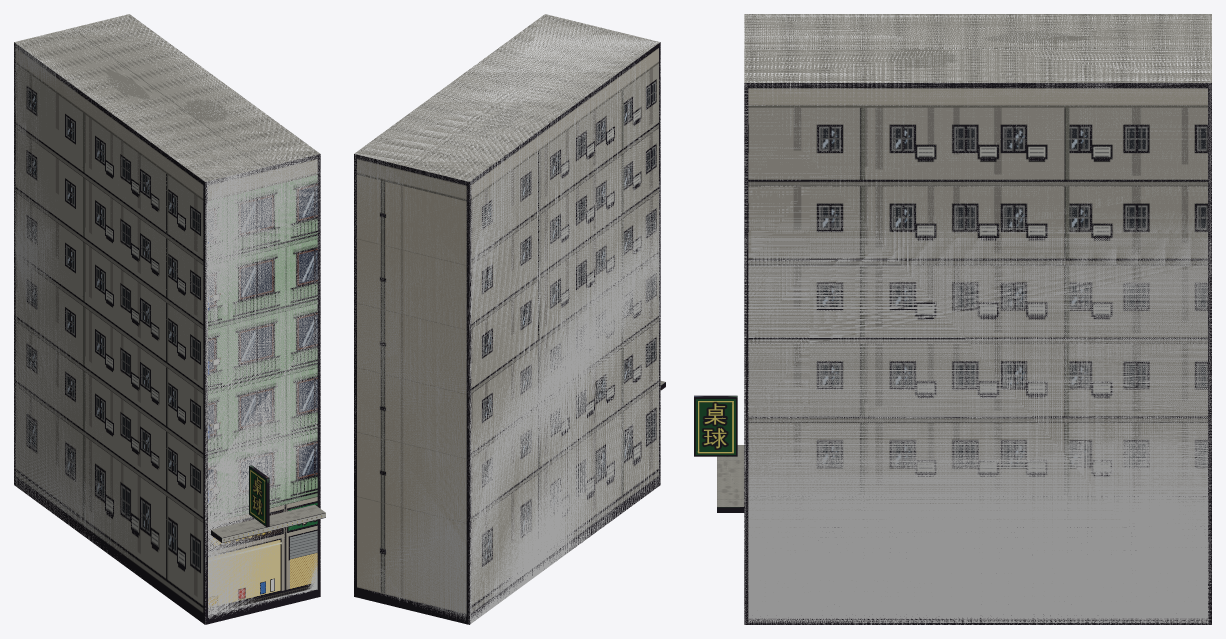
3 renders of one model, left to right at view 1: azimuth 30°, elevation 25°; view 2: azimuth 150°, elevation 25°; view 3: azimuth 270°, elevation 25°, orthographic. The views are drawn at different scales.
Parts seen in each view (by area): view 1: 19D-W15, COL_19D-W15_0; view 2: 19D-W15, COL_19D-W15_0; view 3: 19D-W15, COL_19D-W15_0.
Boxes of the visible parts, box(x1,y1,x2,y2) form: 19D-W15: box(14, 14, 325, 624); COL_19D-W15_0: box(14, 14, 320, 624); 19D-W15: box(354, 14, 665, 624); COL_19D-W15_0: box(354, 14, 660, 624); 19D-W15: box(694, 14, 1211, 624); COL_19D-W15_0: box(744, 14, 1211, 624).
Bounding box in the file's own units: 6 × 22 × 19.05.
Materials: 1 (1 with a texture image).
